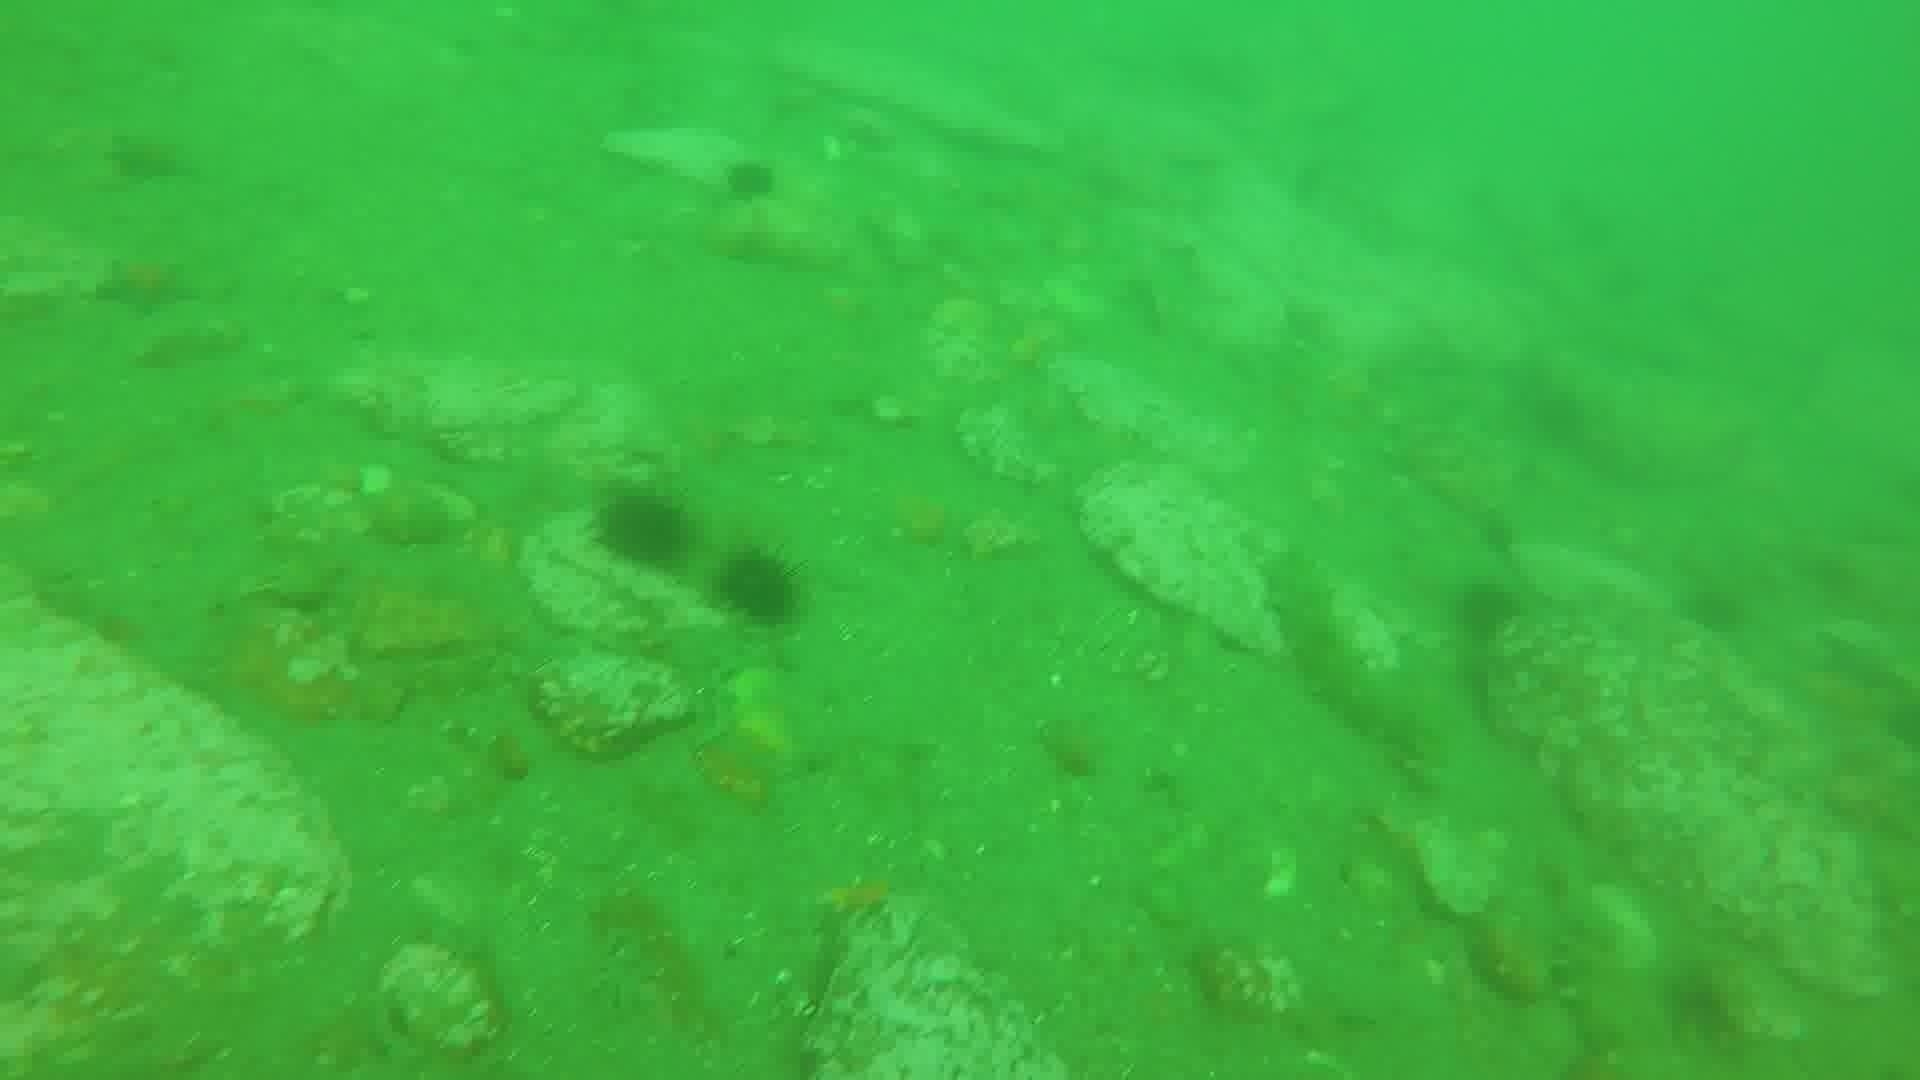echinus: (588, 485, 695, 575), (711, 546, 807, 632), (1448, 576, 1524, 646), (1677, 579, 1753, 640), (717, 153, 783, 208), (1472, 506, 1522, 559)
holothurian: (1261, 551, 1432, 764), (589, 886, 725, 1036)
starfish: (88, 251, 200, 320), (102, 128, 193, 189)
